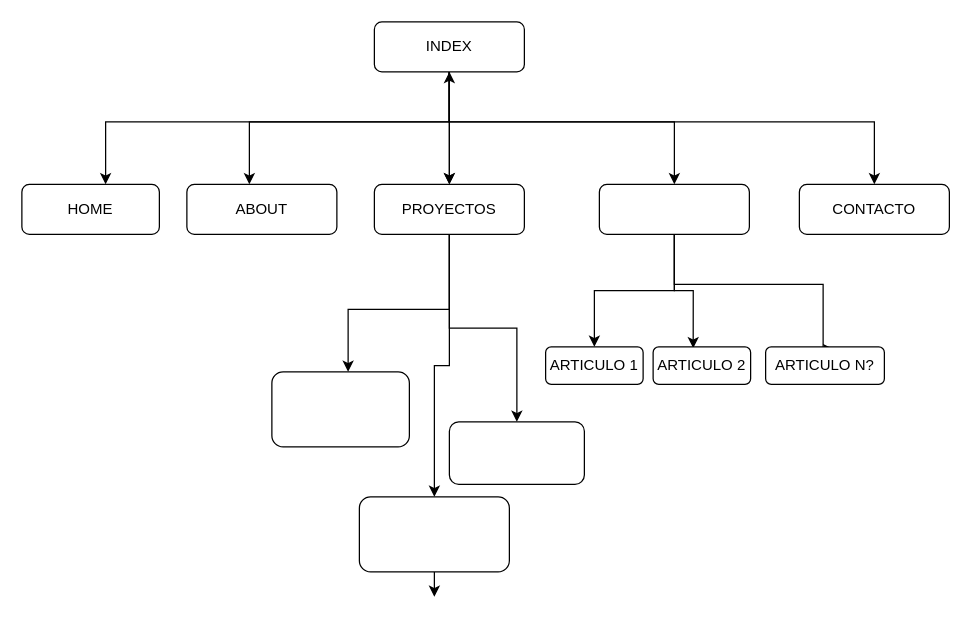
The diagram is 971 pixels wide and 629 high, and some of its shapes have lost their labels. Here are the shapes that lost their labels. From the top down, the centre of each, then its label:
(673,208): BLOG
(340,409): pagina completa informacion html,css,js y python backend
(516,452): Pagina estatica informacion html,css,js
(433,534): pagina completa informacion html,css,js y java backend
